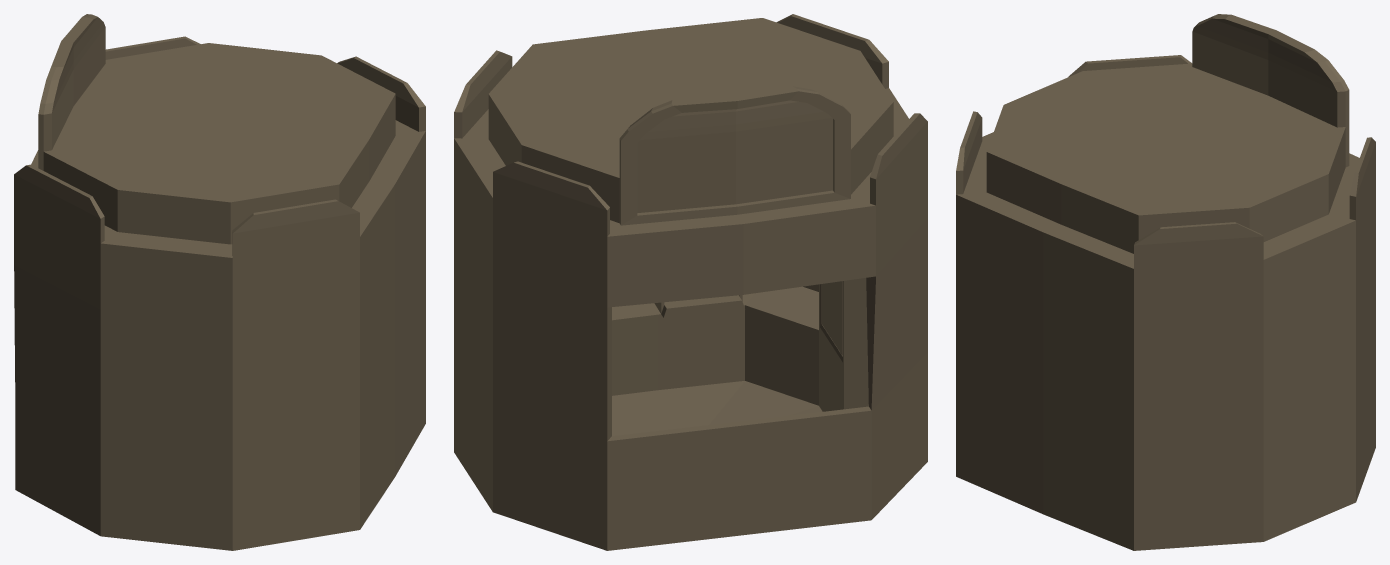
Rendered from FoodStand.fbx.
3 renders of one model, left to right at view 1: azimuth 30°, elevation 25°; view 2: azimuth 150°, elevation 25°; view 3: azimuth 270°, elevation 25°, orthographic. The views are drawn at different scales.
Parts seen in each view (by area): view 1: Building; view 2: Building; view 3: Building.
Boxes of the visible parts, <box> form: Building: <box>14,14,425,550</box>; Building: <box>454,14,927,550</box>; Building: <box>956,14,1375,550</box>.
Size of the model in its own units: 6.17 by 6.21 by 6.15.
